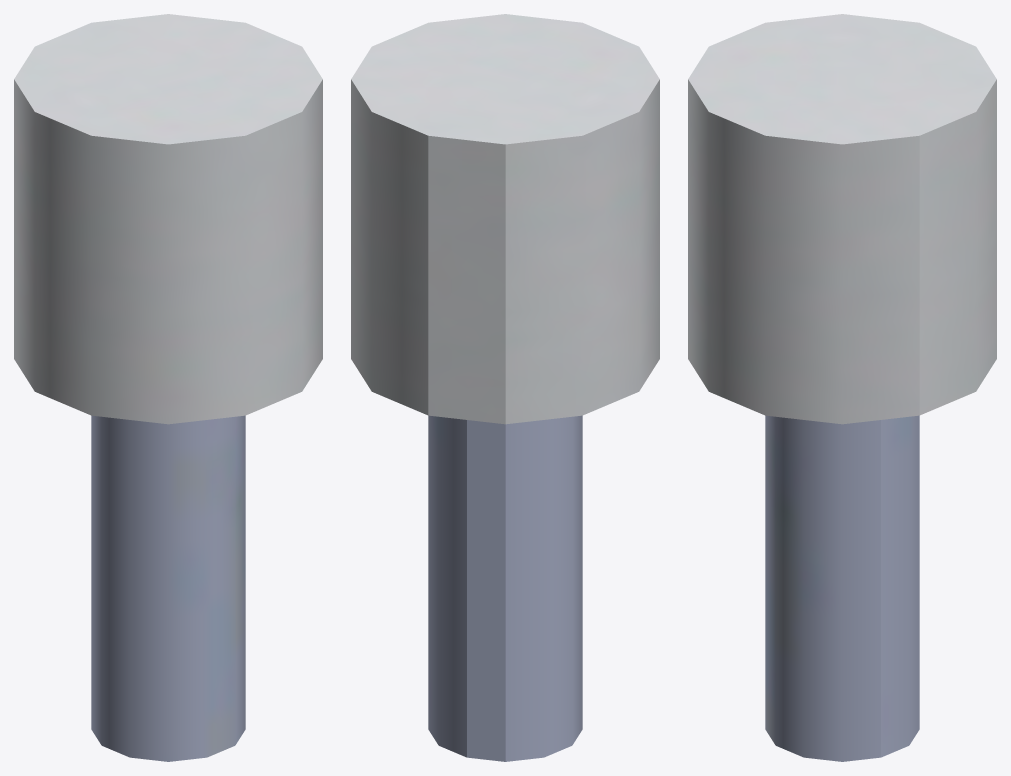
Rendered from obstacle-light-steady-blue-cbj_LOD00.gltf.
The picture shows the model from 3 angles, left to right: view 1: azimuth 30°, elevation 25°; view 2: azimuth 150°, elevation 25°; view 3: azimuth 270°, elevation 25°; orthographic projection.
Visible parts, largest first — view 1: day-night; view 2: day-night; view 3: day-night.
Part boxes in pixels (bbox=[...]): day-night: bbox=[14, 14, 322, 761]; day-night: bbox=[351, 14, 659, 761]; day-night: bbox=[688, 14, 996, 761].
Size of what is drawn, in the model's own units: 0.4 by 0.9293 by 0.4.
